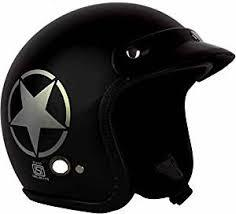helmet: (3, 4, 235, 212)
